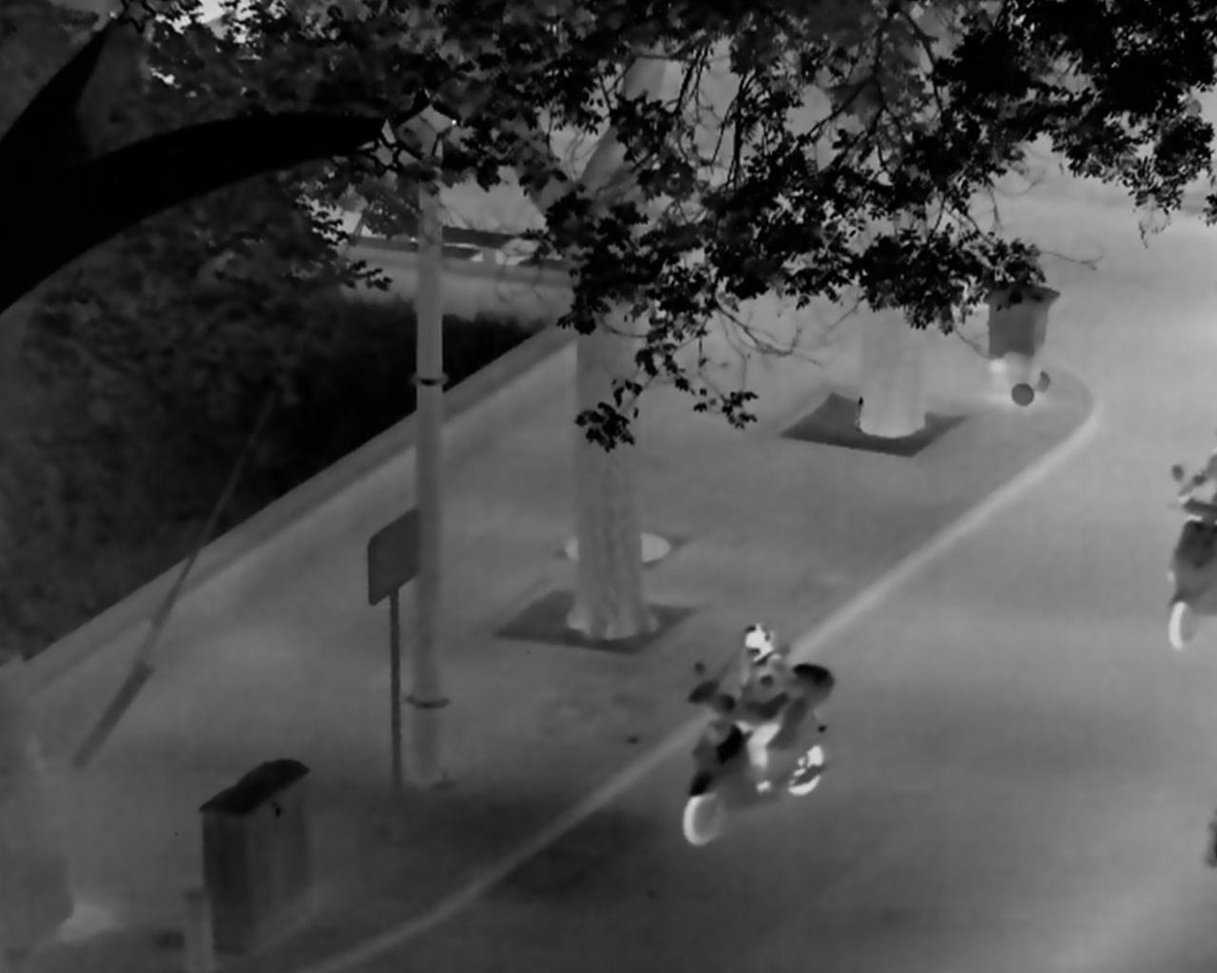person: (688, 621, 804, 795), (1173, 438, 1217, 516)
